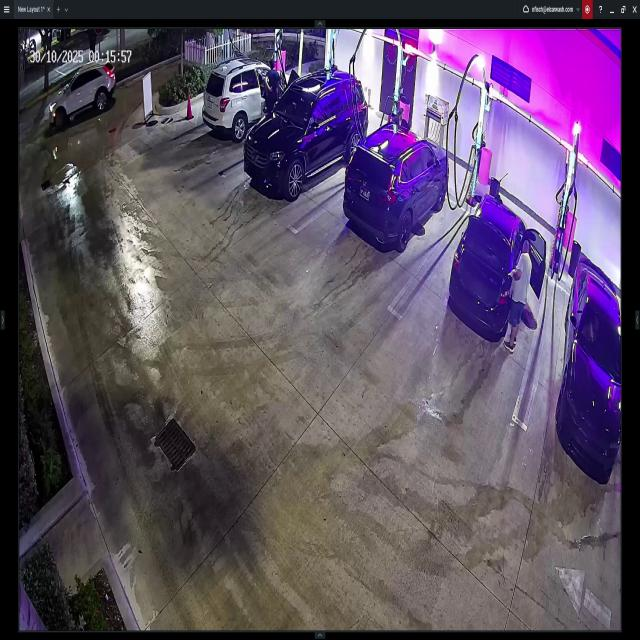Car: (245, 69, 366, 193), (558, 249, 622, 475), (450, 198, 546, 341), (347, 128, 448, 250), (208, 52, 295, 140), (38, 57, 117, 127)
